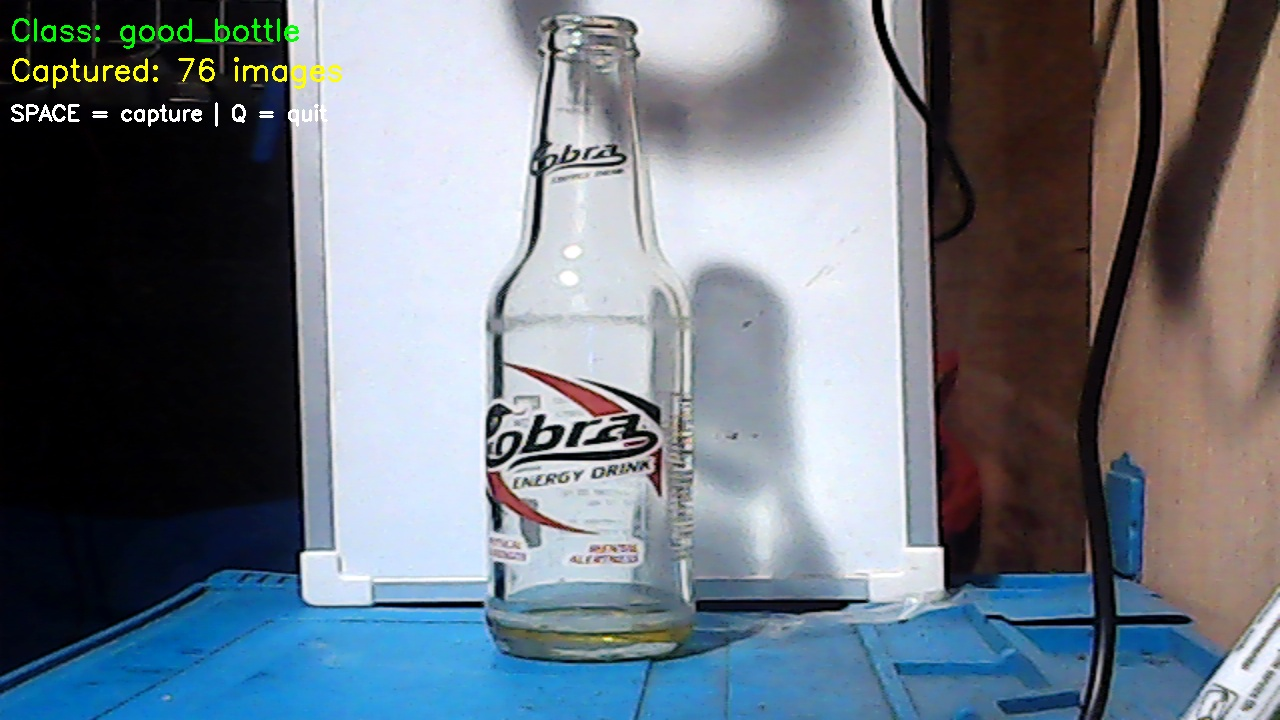good_bottle: (481, 1, 710, 663)
